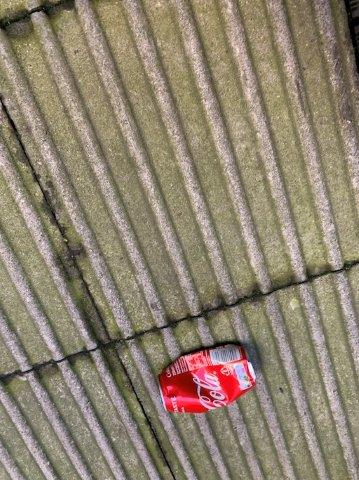kaleng: (160, 346, 255, 413)
